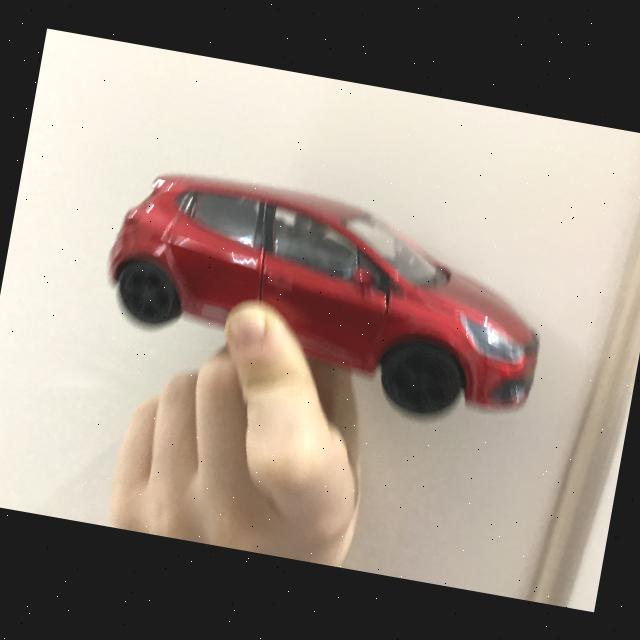Dogru_Jant: (120, 265, 172, 320), (394, 358, 446, 409)
